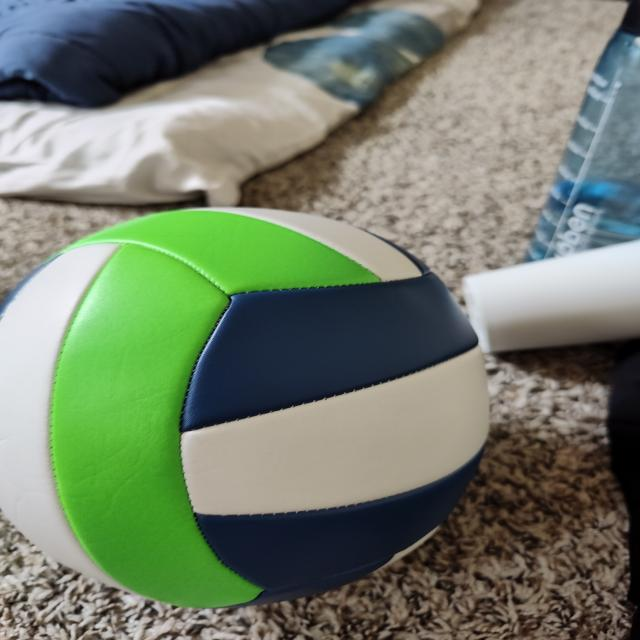ball: (0, 203, 491, 611)
